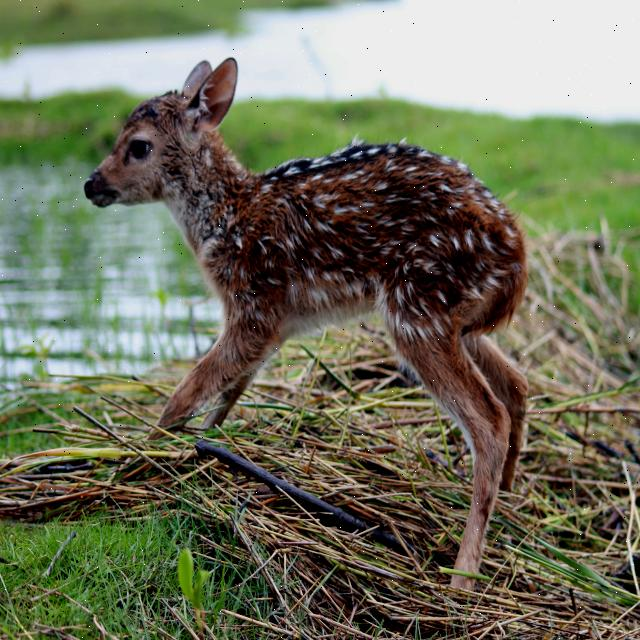deer: (74, 26, 242, 228)
